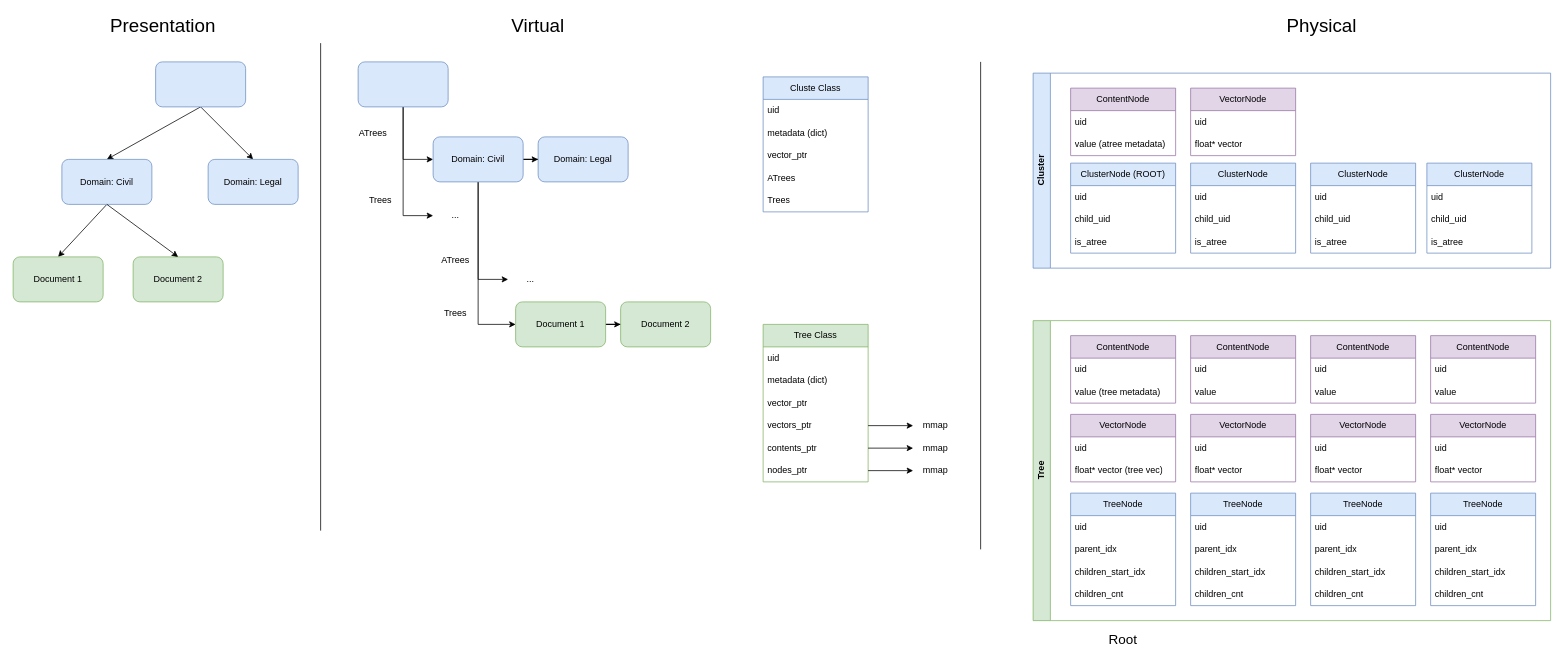
Image size: 1564x663. Some labels were removed from this diagram. The centre of each missing label's shape, as x and y in pixels:
"Database" belongs at (402,84).
"Database 1 (Root)" belongs at (200,84).
